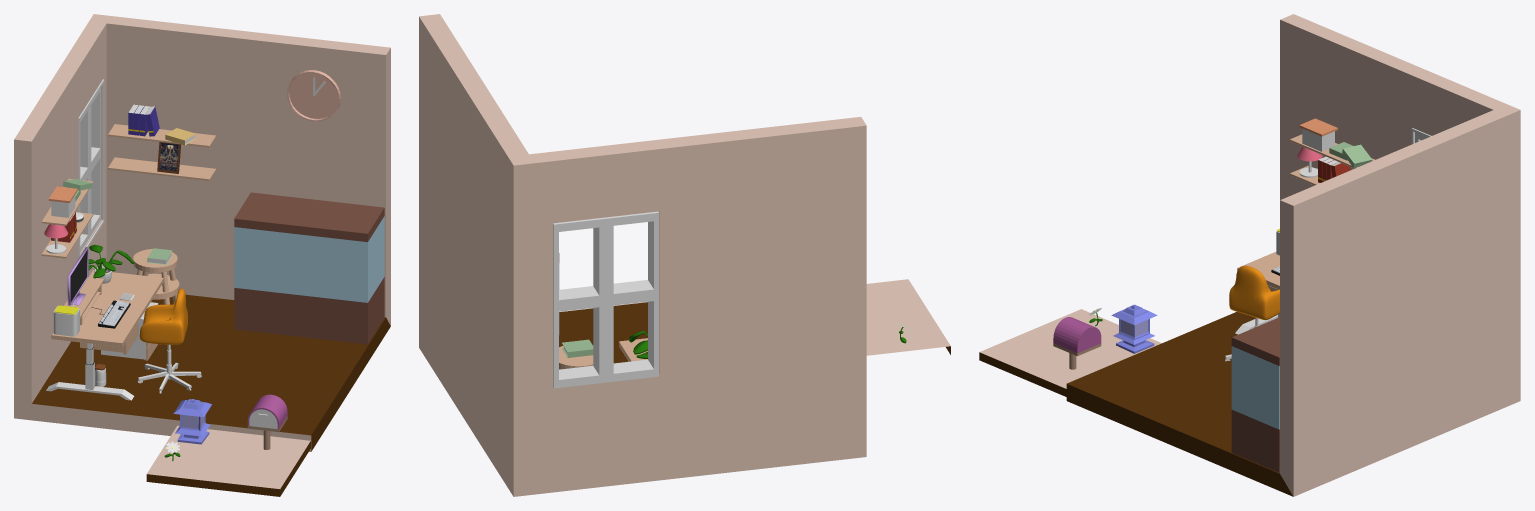
Rendered from tutorial.glb.
3 renders of one model, left to right at view 1: azimuth 30°, elevation 25°; view 2: azimuth 150°, elevation 25°; view 3: azimuth 270°, elevation 25°, orthographic. The views are drawn at different scales.
Parts seen in each view (by area): view 1: Room, Tank, Glass, floor 2, table top, Plane, Clock, seat, Lamp thing, table top.004, Cylinder.003, table stand (+14 smaller); view 2: Room, Plane, floor 2; view 3: Room, floor 2, Tank, Glass, seat, Lamp thing, Cylinder.003, box, table top.
Boxes of the visible parts, box(x1,y1,x2,y2) form: Room: box(14, 14, 390, 451); Tank: box(234, 192, 384, 344); Glass: box(234, 216, 384, 302); floor 2: box(146, 425, 310, 496); table top: box(51, 270, 163, 346); Plane: box(78, 79, 104, 258); Clock: box(287, 70, 340, 121); seat: box(139, 288, 187, 344); Lamp thing: box(173, 399, 211, 444); table top.004: box(108, 157, 215, 180); Cylinder.003: box(247, 394, 287, 432); table stand: box(46, 343, 134, 400); Room: box(419, 14, 866, 496); Plane: box(553, 211, 658, 388); floor 2: box(866, 279, 950, 355); Room: box(1066, 14, 1520, 496); floor 2: box(979, 309, 1161, 396); Tank: box(1231, 317, 1279, 472); Glass: box(1231, 346, 1279, 429); seat: box(1229, 265, 1279, 320); Lamp thing: box(1111, 304, 1157, 353); Cylinder.003: box(1053, 317, 1101, 356); box: box(1299, 118, 1337, 151); table top: box(1237, 252, 1279, 289).
Bounding box in the file's own units: 26.73 × 18.9 × 31.86.
Materials: 51 (1 with a texture image).
